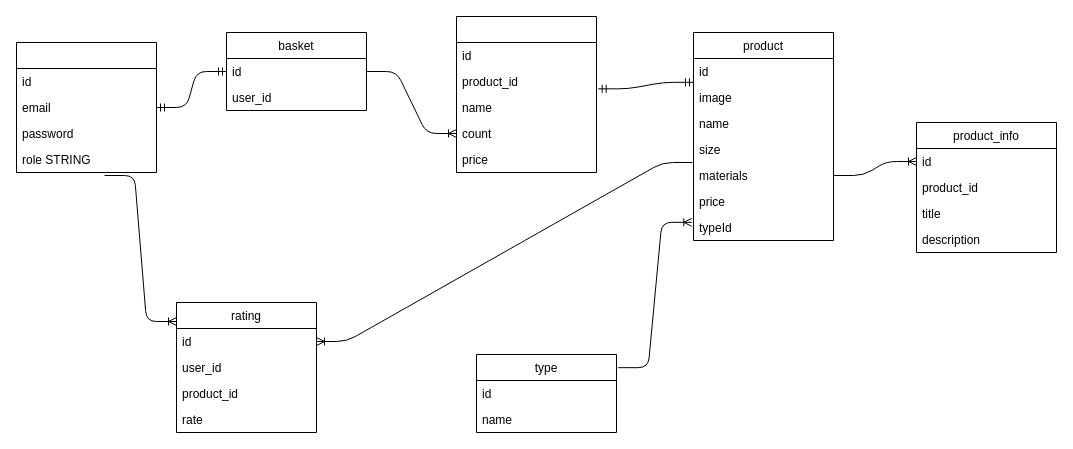
Image size: 1073x449. Some labels were removed from this diagram. The box of each missing label's shape, as (x1, y1, x2, y2) in pixels:
basket_product: (456, 16, 596, 172)
user: (16, 42, 156, 172)
